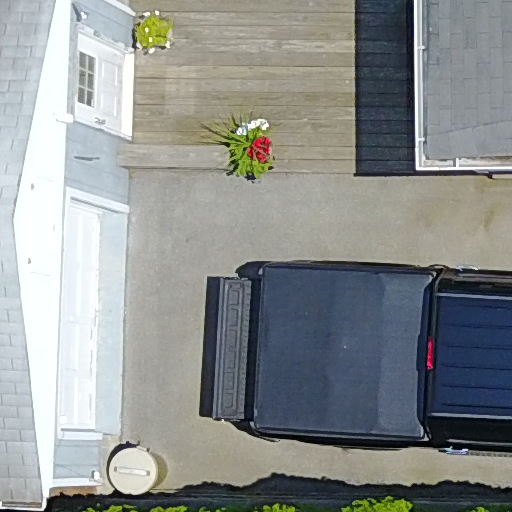trash bin: (97, 440, 177, 502)
